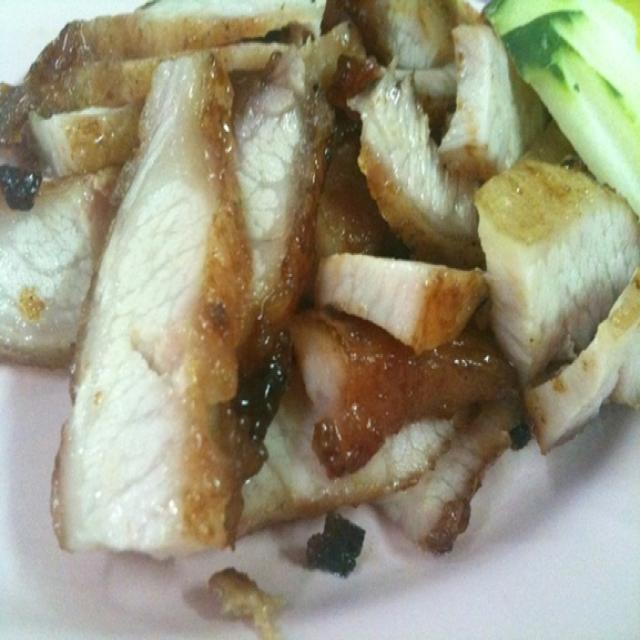猪肉菜式: (5, 10, 638, 624)
